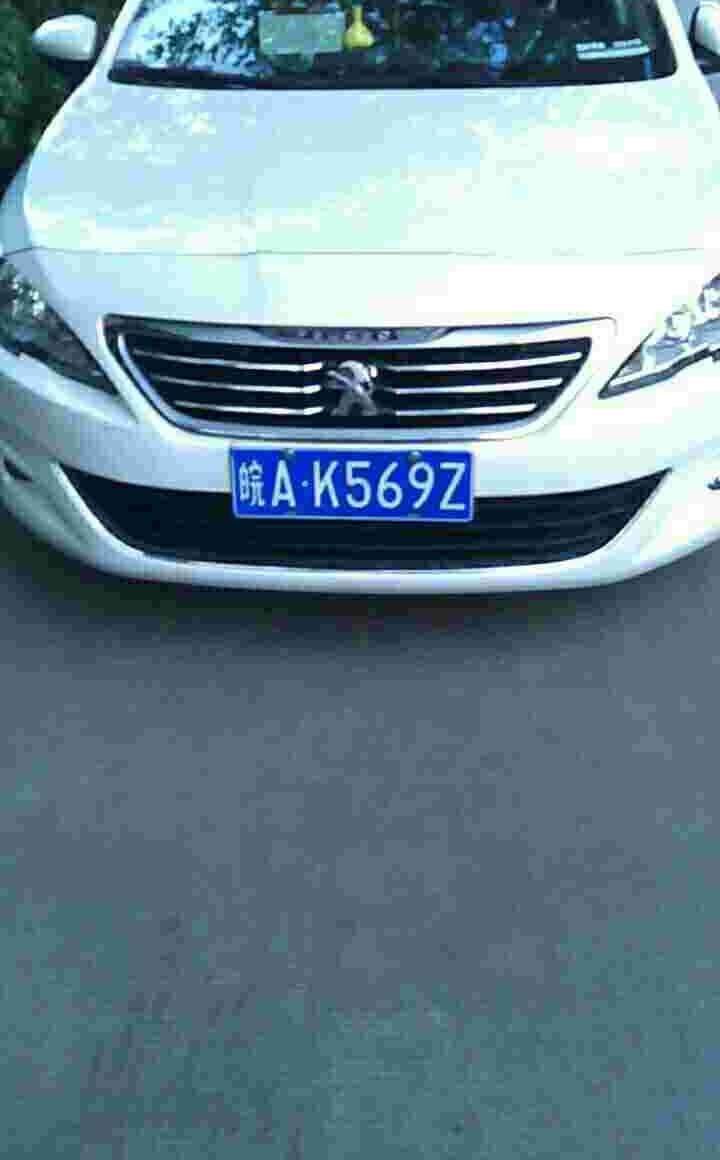license_plate: (208, 438, 471, 523)
